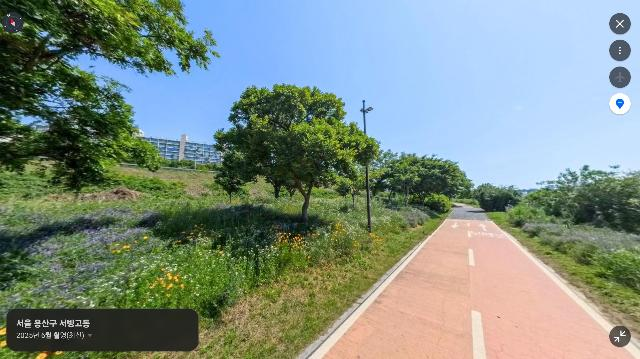other: (0, 0, 219, 172), (214, 83, 365, 224), (532, 164, 640, 236), (326, 120, 381, 210), (404, 154, 471, 214), (213, 128, 265, 203), (370, 147, 425, 208)
